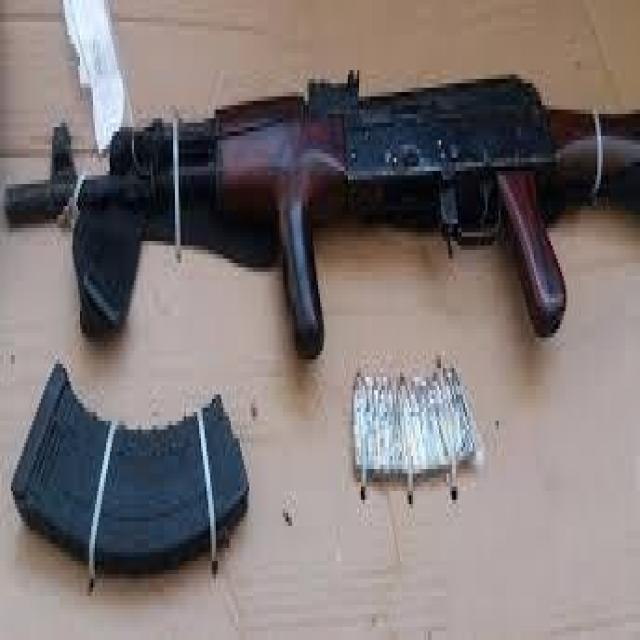weapon: (2, 65, 640, 368)
